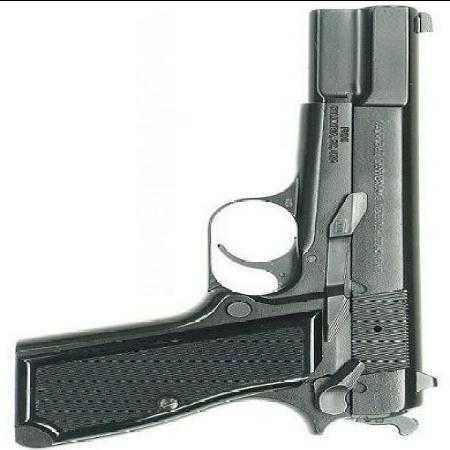Pistol: (13, 5, 437, 448)
